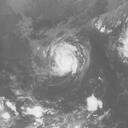cyclone: (46, 40, 85, 78)
